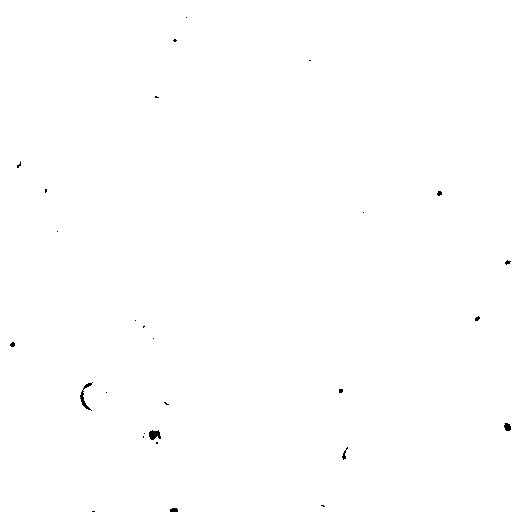micro-algae: (23, 0, 141, 93), (223, 429, 290, 497), (87, 253, 151, 318), (45, 474, 128, 511), (305, 462, 361, 511), (33, 225, 73, 265), (319, 157, 352, 201), (78, 377, 109, 415), (0, 264, 32, 297), (460, 303, 492, 336), (135, 420, 169, 450), (247, 79, 282, 108), (487, 403, 511, 445), (425, 180, 457, 211), (486, 243, 511, 282), (333, 237, 360, 270), (210, 11, 240, 40), (413, 0, 445, 27), (45, 221, 77, 247), (154, 383, 188, 407), (261, 249, 285, 281), (209, 255, 237, 281), (315, 399, 337, 431), (291, 43, 317, 70), (244, 213, 267, 242), (432, 323, 458, 348), (406, 82, 433, 105), (359, 197, 382, 223), (67, 65, 91, 89), (3, 51, 25, 77), (209, 307, 229, 335), (330, 379, 356, 400), (411, 239, 431, 266), (0, 331, 22, 355), (161, 25, 183, 48), (296, 168, 318, 191), (142, 319, 164, 341), (301, 330, 323, 352), (489, 281, 511, 303), (183, 1, 207, 20), (159, 497, 189, 512), (4, 148, 23, 171), (341, 442, 360, 465), (124, 479, 140, 505), (442, 296, 463, 315), (142, 426, 161, 445), (419, 351, 439, 369), (74, 499, 97, 511), (124, 305, 137, 326), (34, 180, 48, 199)
